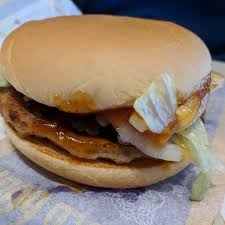hamburger: (1, 14, 215, 195)
